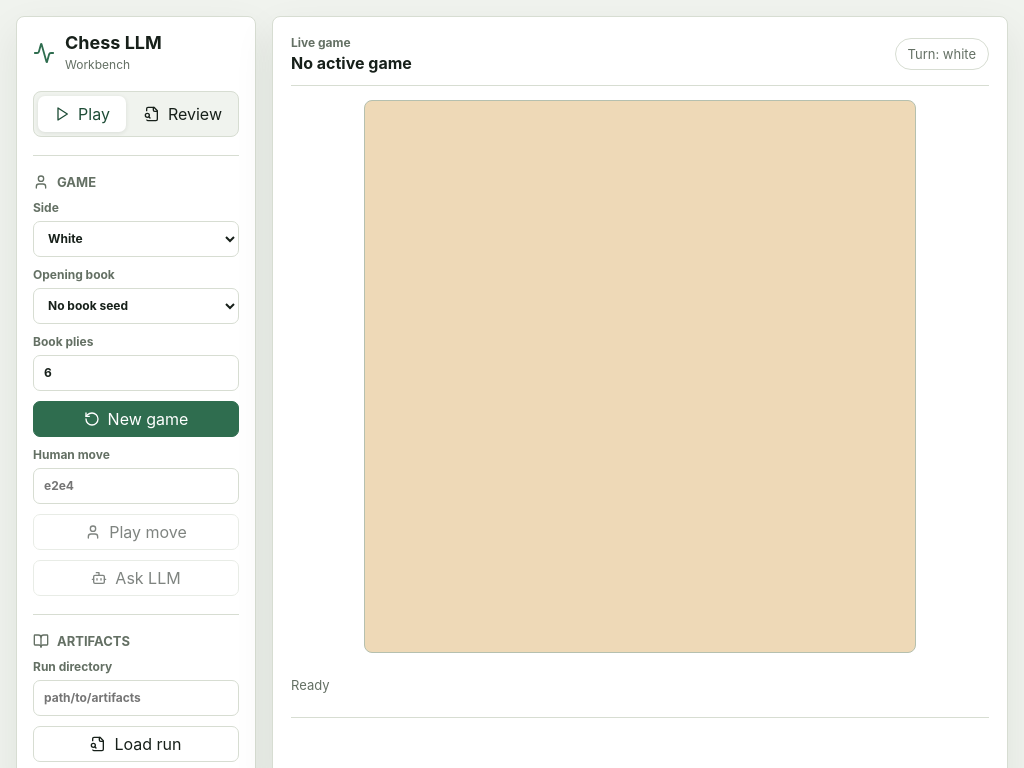
App › does not let a stale restored game overwrite a newly created game
Click the button "New game" at (136, 419), box x1=33 y1=401 x2=239 y2=437
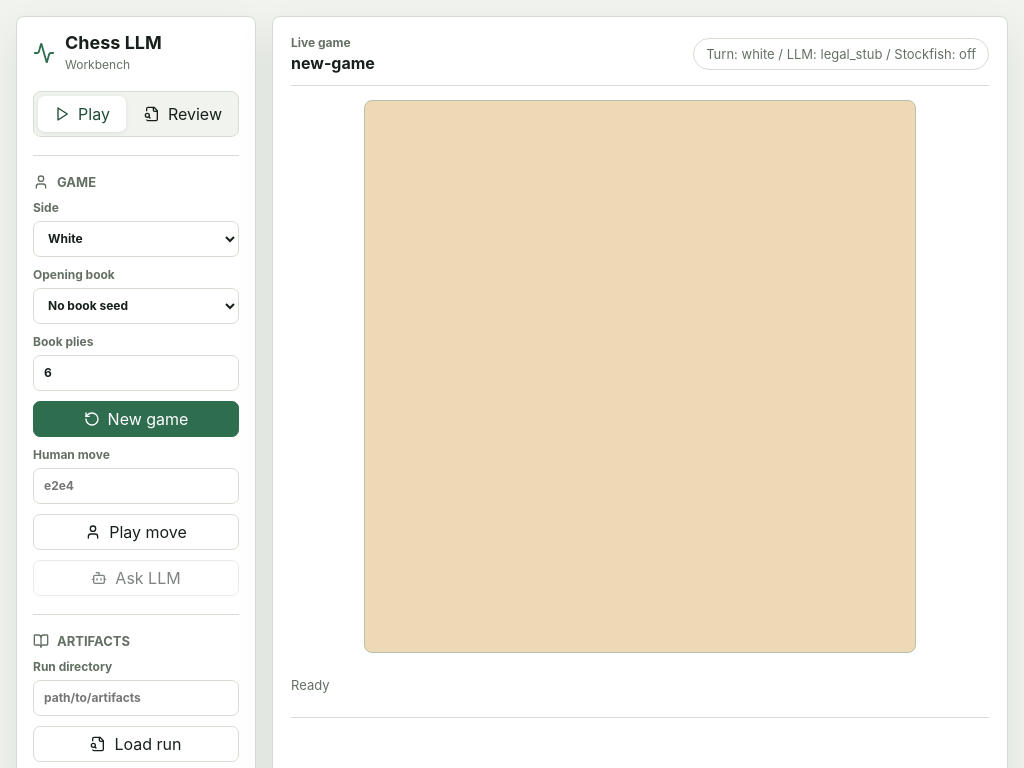
Result: the text "new-game" is shown at x1=291 y1=53 x2=375 y2=73
